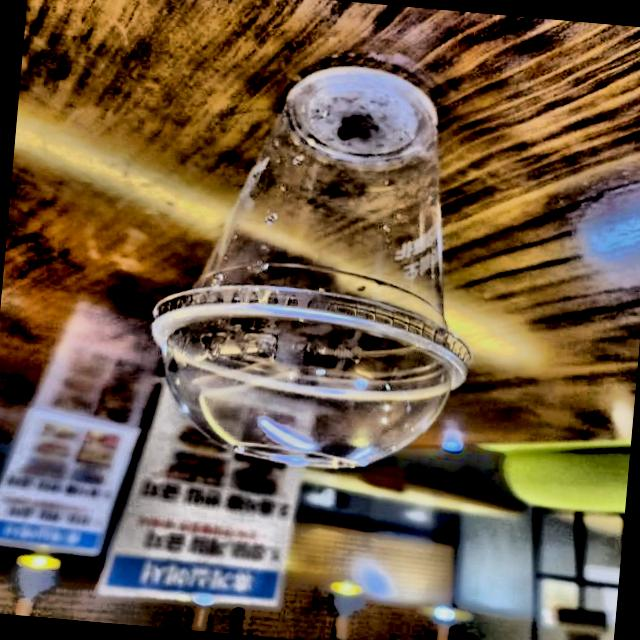plastic cup: (98, 15, 536, 512)
